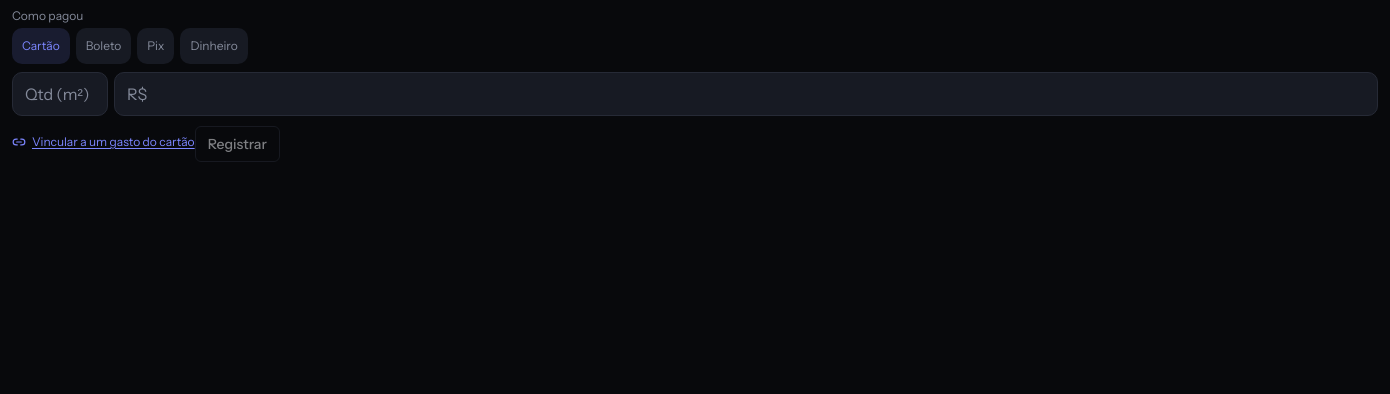
NovaCompra › ao vincular um parcelado, grava a SOMA das parcelas
Click the button "Vincular a um gasto do cartão" at (103, 142), box [12, 124, 195, 160]
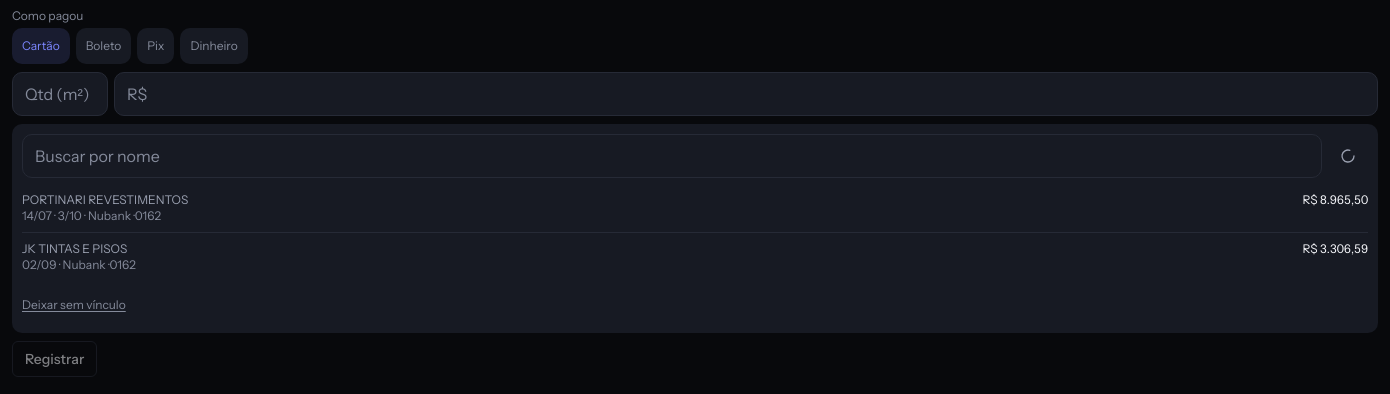
Result: the text "PORTINARI REVESTIMENTOS 14/07 · 3/10 · Nubank ·0162" is shown at [22, 192, 188, 223]
Click the button that starts with "PORTINARI REVESTIMENTOS" at (105, 200), box [22, 184, 1368, 232]
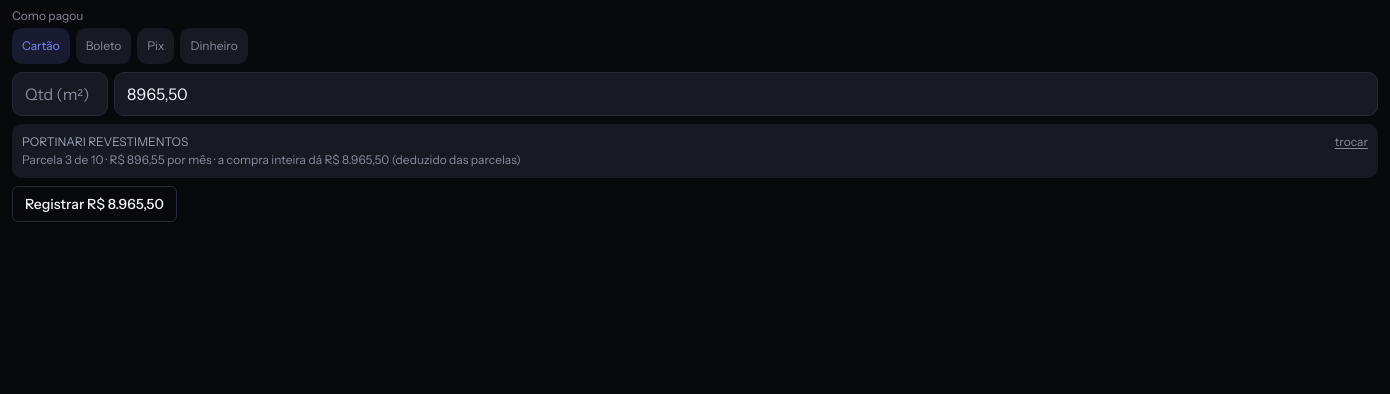
Result: the button "Registrar R$ 8.965,50" is shown at [12, 186, 177, 222]
